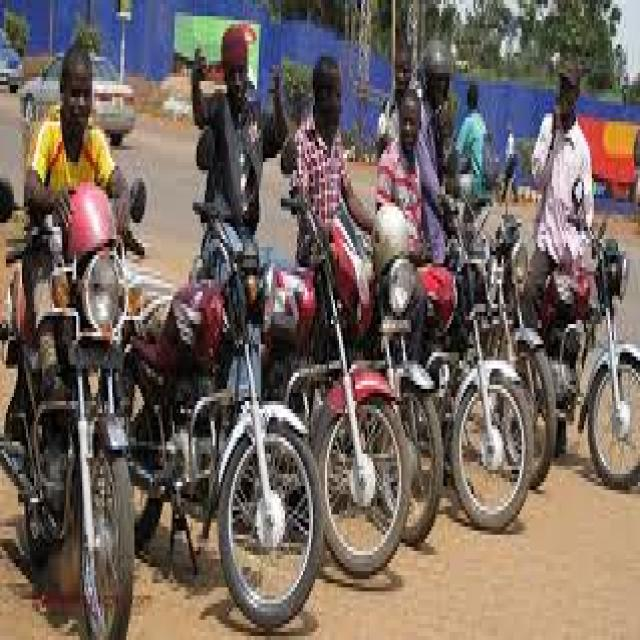bodaboda: (0, 142, 161, 640), (163, 154, 321, 640), (425, 127, 541, 576), (323, 162, 418, 592), (560, 150, 640, 567)
